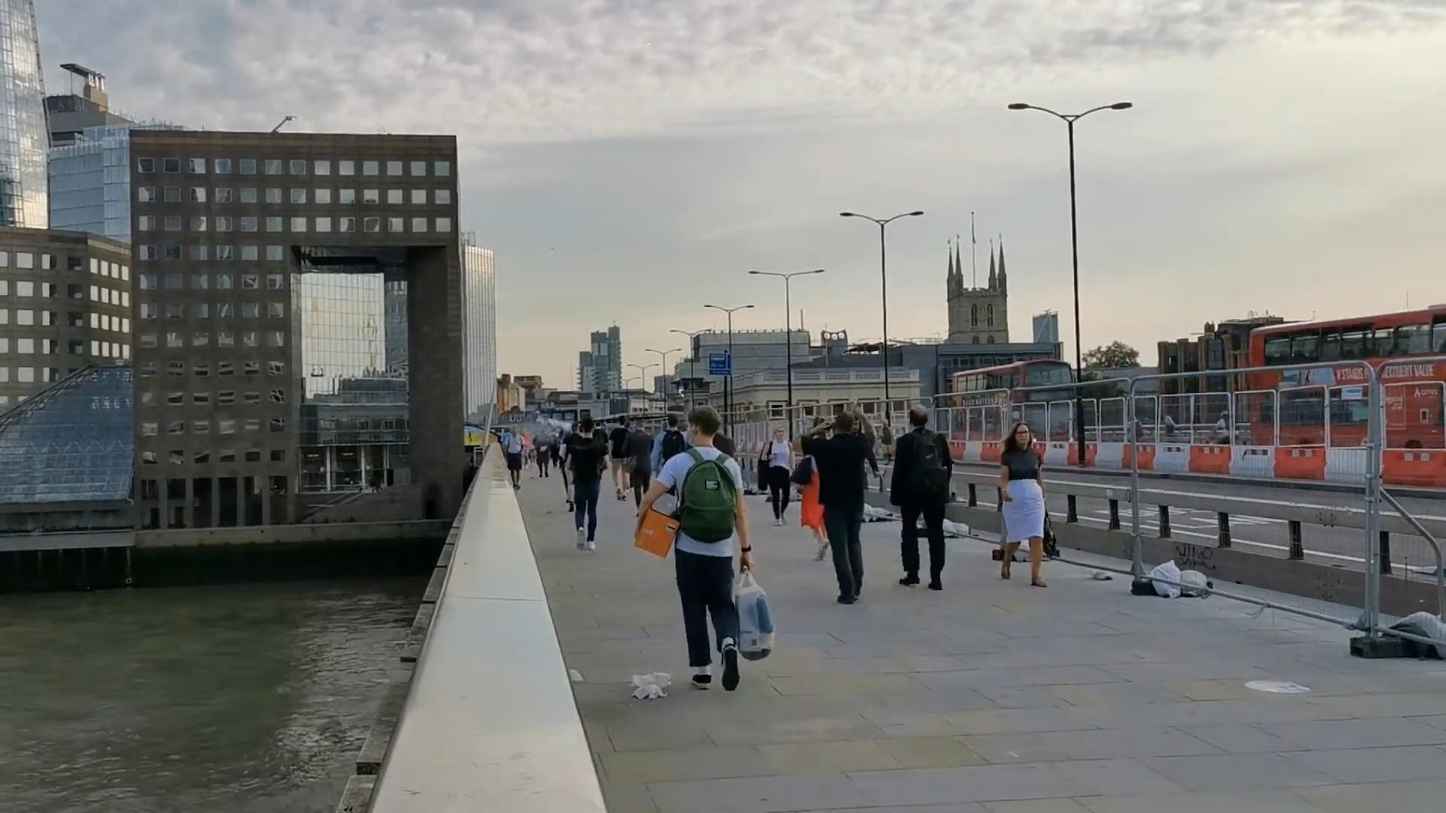no-helmet: (688, 405, 721, 444), (1009, 422, 1033, 446), (909, 403, 929, 429), (833, 412, 853, 435), (581, 417, 594, 435), (772, 425, 784, 440), (668, 413, 679, 429), (619, 415, 627, 426)
